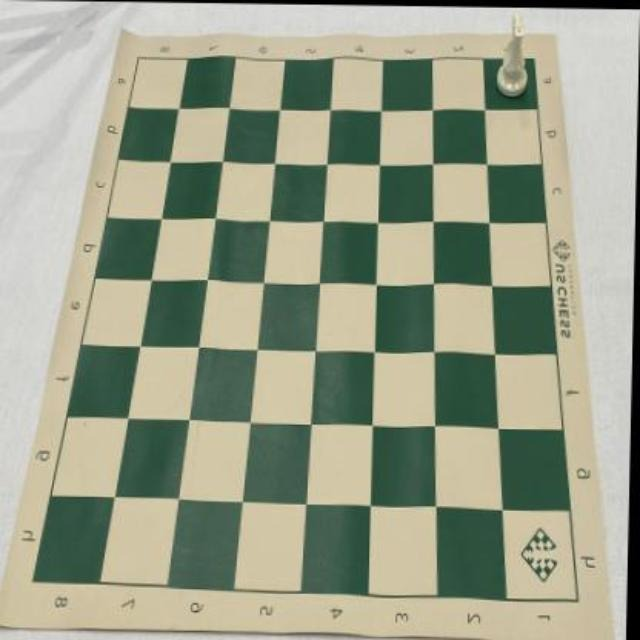white-knight: (495, 6, 529, 98)
